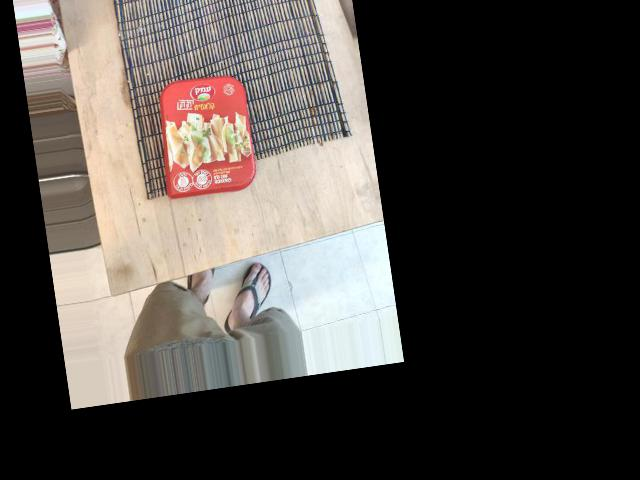cheese: (195, 39, 315, 153)
